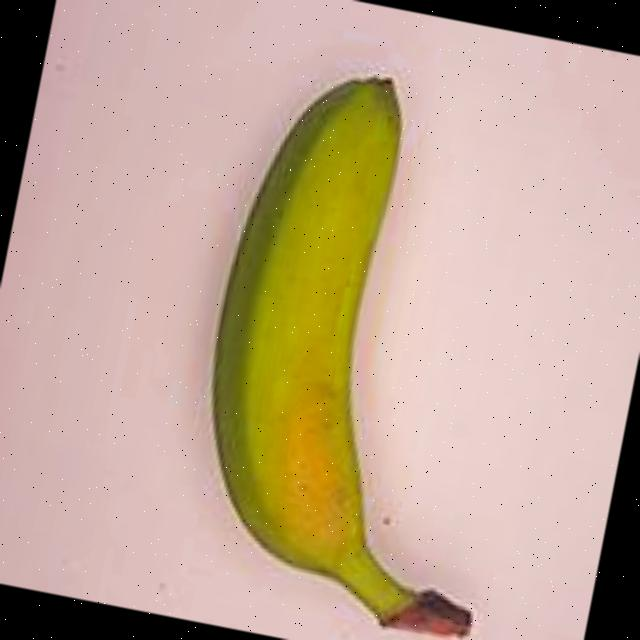Unripe: (145, 27, 591, 640)
